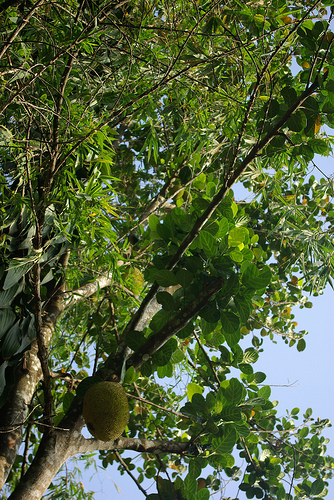jackfruit: (82, 377, 130, 443)
